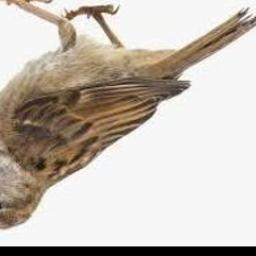Sparrow: (0, 0, 256, 229)
